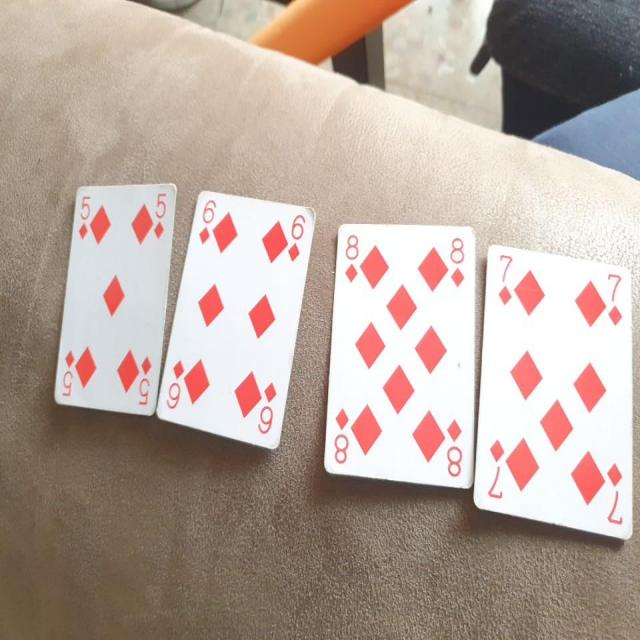5 Diamonds: (46, 178, 182, 418)
6 Diamonds: (155, 185, 318, 446)
7 Diamonds: (472, 243, 634, 540)
8 Diamonds: (324, 223, 477, 491)
